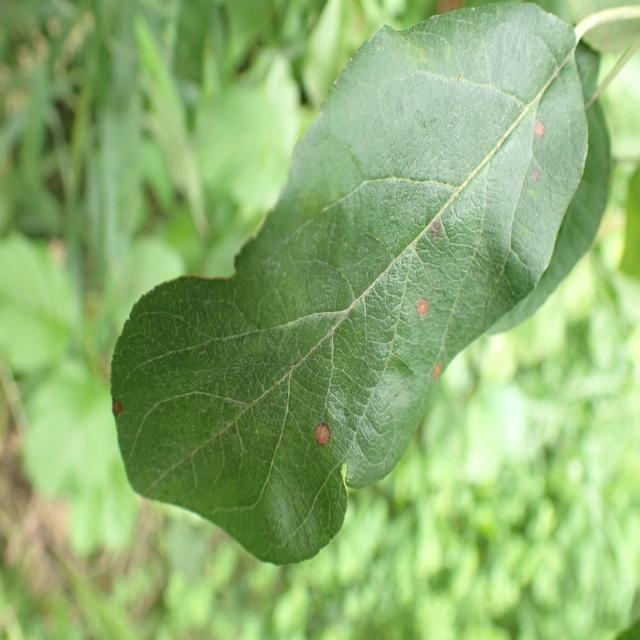Black Rot: (522, 79, 549, 154), (108, 384, 138, 448), (310, 405, 341, 466), (421, 356, 452, 415), (424, 194, 452, 256), (406, 286, 434, 337), (524, 149, 548, 194)
